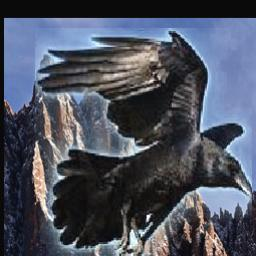Crow: (35, 28, 252, 256)
